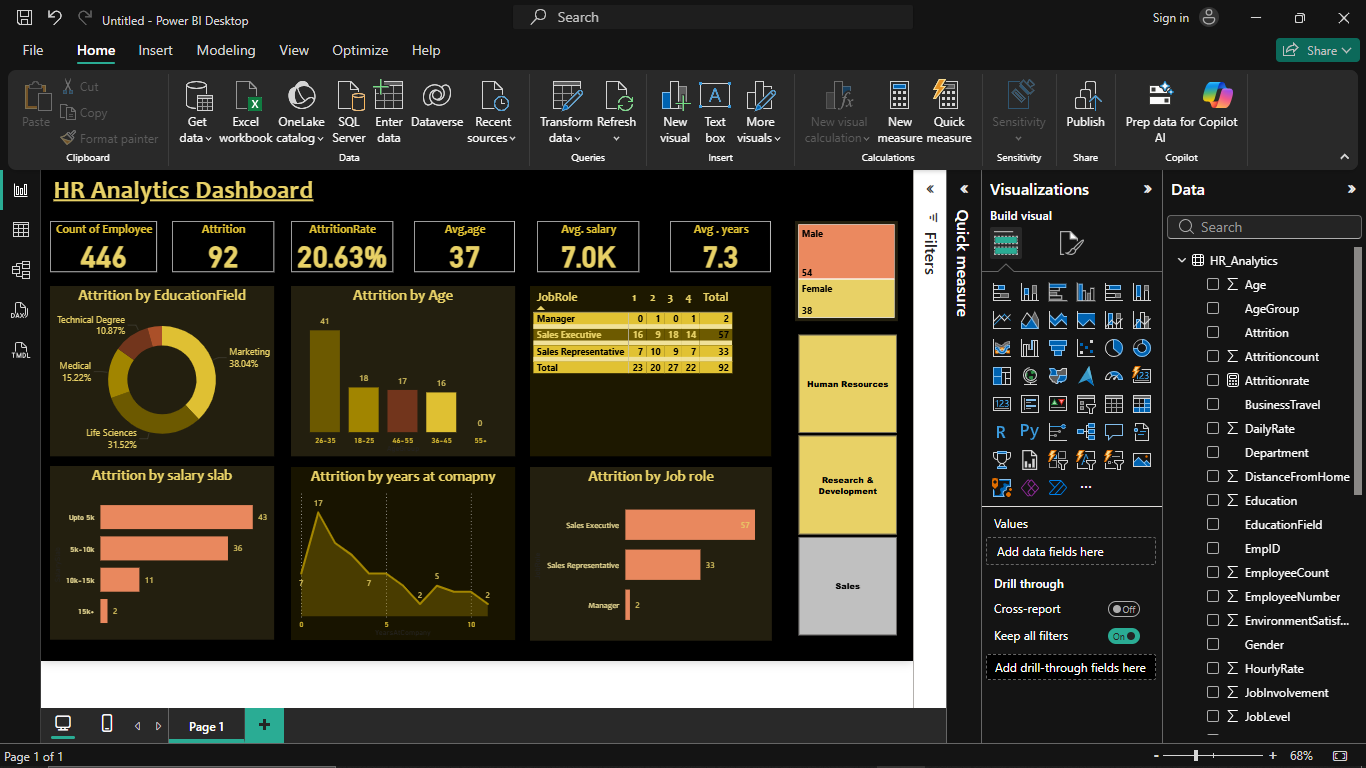

Layout of this report page (visuals, bound fields, positions):
{"tool":"powerbi","page":{"name":"Page 1","canvas":[1280,720],"ordinal":0},"visuals":[{"type":"card","title":"Count of Employee","fields":{"Values":["CountNonNull(HR_Analytics.EmpID)"]},"box":[13.2,74.9,157.1,74.9],"z":0},{"type":"card","title":"Attrition","fields":{"Values":["Sum(HR_Analytics.Attritioncount)"]},"box":[192.3,74.9,149.7,74.9],"z":1000},{"type":"card","title":"AttritionRate","fields":{"Values":["HR_Analytics.Attritionrate"]},"box":[367,74.9,149.7,74.9],"z":2000},{"type":"card","title":"Avg,age","fields":{"Values":["Avg(HR_Analytics.Age)"]},"box":[547.5,74.9,148.3,74.9],"z":3000},{"type":"card","title":"Avg. salary","fields":{"Values":["Avg(HR_Analytics.MonthlyIncome)"]},"box":[728.1,74.9,149.7,74.9],"z":4000},{"type":"card","title":"Avg . years","fields":{"Values":["Avg(HR_Analytics.YearsAtCompany)"]},"box":[923.3,74.9,148.3,74.9],"z":5000},{"type":"donutChart","title":"Attrition by EducationField","fields":{"Category":["HR_Analytics.EducationField"],"Y":["Sum(HR_Analytics.Attritioncount)"]},"box":[13.2,170.3,328.8,249.5],"z":6000},{"type":"columnChart","title":"Attrition by Age","fields":{"Category":["HR_Analytics.AgeGroup"],"Y":["Sum(HR_Analytics.Attritioncount)"]},"box":[367,170.3,328.8,249.5],"z":7000},{"type":"pivotTable","fields":{"Rows":["HR_Analytics.JobRole"],"Columns":["HR_Analytics.JobSatisfaction"],"Values":["Sum(HR_Analytics.Attritioncount)"]},"box":[717.8,170.3,353.8,249.5],"z":8000},{"type":"barChart","title":"Attrition by salary slab","fields":{"Category":["HR_Analytics.SalarySlab"],"Y":["Sum(HR_Analytics.Attritioncount)"]},"box":[13.2,434.5,328.8,255.4],"z":9000},{"type":"barChart","title":"Attrition by Job role","fields":{"Category":["HR_Analytics.JobRole"],"Y":["Sum(HR_Analytics.Attritioncount)"]},"box":[717.8,436,355.2,255.4],"z":10000},{"type":"areaChart","title":"Attrition by years at comapny","fields":{"Category":["HR_Analytics.YearsAtCompany"],"Y":["Sum(HR_Analytics.Attritioncount)"]},"box":[367,436,328.8,253.9],"z":11000},{"type":"treemap","fields":{"Group":["HR_Analytics.Gender"],"Values":["Sum(HR_Analytics.Attritioncount)"]},"box":[1106.8,74.9,151.2,146.8],"z":12000},{"type":"slicer","fields":{"Values":["HR_Analytics.Department"]},"box":[1086.2,234.9,193.8,455],"z":12001},{"type":"textbox","box":[13.2,0,547.5,63.1],"z":12002}]}

Visuals, with their boxes on the page's 1280x720 design canvas (x1, y1, x2, y2). These are canvas units, not pixel positions in the 1366x768 screenshot, which may show the page scaled, cropped or inside an application window:
"Count of Employee" card: x1=13, y1=75, x2=170, y2=150
"Attrition" card: x1=192, y1=75, x2=342, y2=150
"AttritionRate" card: x1=367, y1=75, x2=517, y2=150
"Avg,age" card: x1=548, y1=75, x2=696, y2=150
"Avg. salary" card: x1=728, y1=75, x2=878, y2=150
"Avg . years" card: x1=923, y1=75, x2=1072, y2=150
"Attrition by EducationField" donutChart: x1=13, y1=170, x2=342, y2=420
"Attrition by Age" columnChart: x1=367, y1=170, x2=696, y2=420
pivotTable - HR_Analytics.JobRole x HR_Analytics.JobSatisfaction: x1=718, y1=170, x2=1072, y2=420
"Attrition by salary slab" barChart: x1=13, y1=434, x2=342, y2=690
"Attrition by Job role" barChart: x1=718, y1=436, x2=1073, y2=691
"Attrition by years at comapny" areaChart: x1=367, y1=436, x2=696, y2=690
treemap - HR_Analytics.Gender x Sum(HR_Analytics.Attritioncount): x1=1107, y1=75, x2=1258, y2=222
slicer - HR_Analytics.Department: x1=1086, y1=235, x2=1280, y2=690
textbox: x1=13, y1=0, x2=561, y2=63
